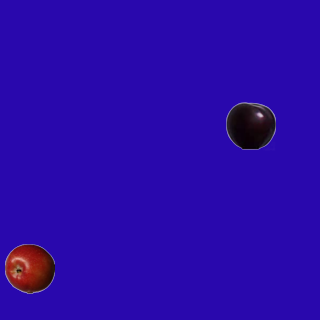Apple Braeburn: (4, 243, 54, 293)
Cherry Wax Black: (225, 100, 275, 150)
